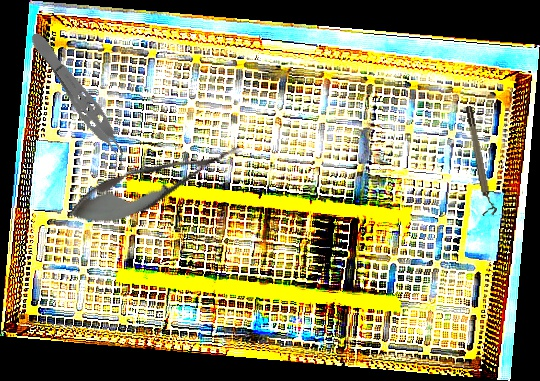Fixation Ring: (463, 104, 498, 217)
Micro Scissor: (59, 126, 250, 240)
Tissue Forceps: (23, 27, 136, 173)
